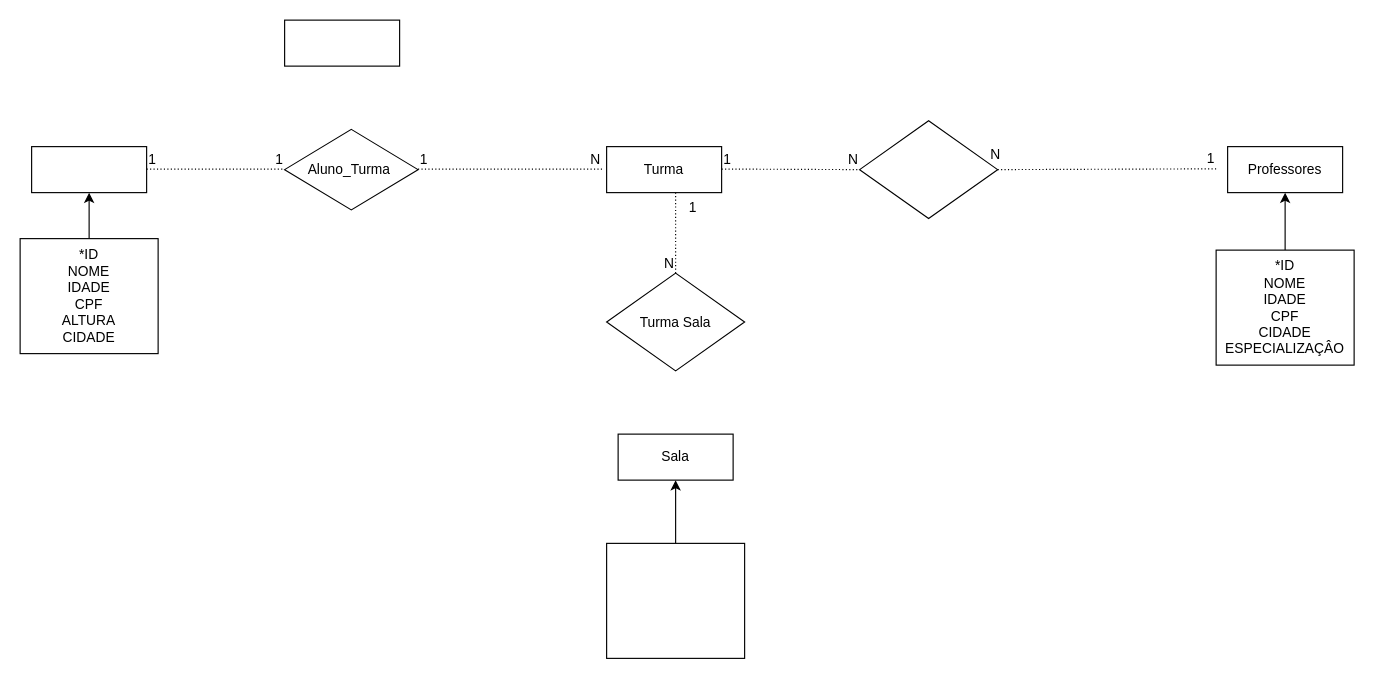
This 1374x679 diagram has some shape labels left out. Here are the shapes that lost their labels. From the top down, the box of each, then its label:
(283, 19, 400, 66): Matérias
(30, 145, 147, 193): Alunos
(858, 120, 998, 218): Professores Turma
(605, 542, 745, 658): *ID NOME TURMA CAPACIDADE DE ALUNOS
